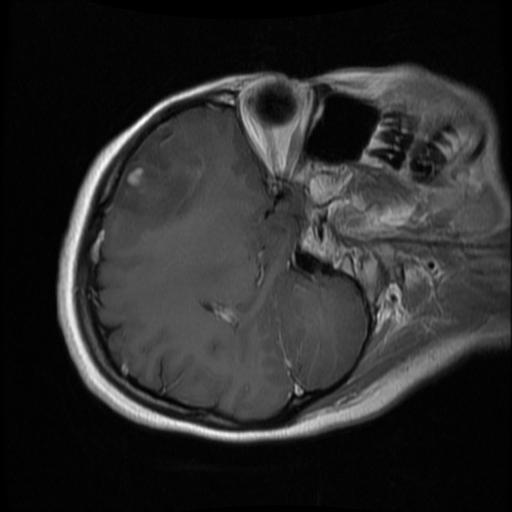glioma: (104, 125, 200, 249)
